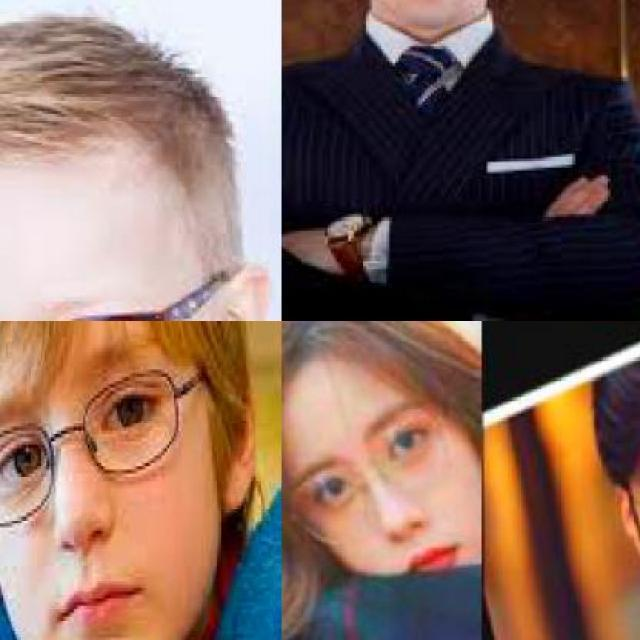mask: (0, 362, 209, 528), (282, 408, 458, 536)
